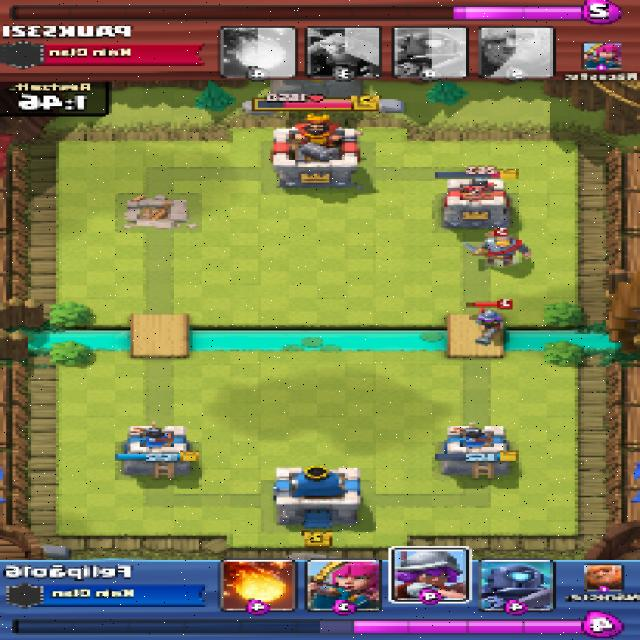Enemy-Knight: (466, 235, 538, 268)
Enemy-Musketeer: (471, 308, 512, 345)
